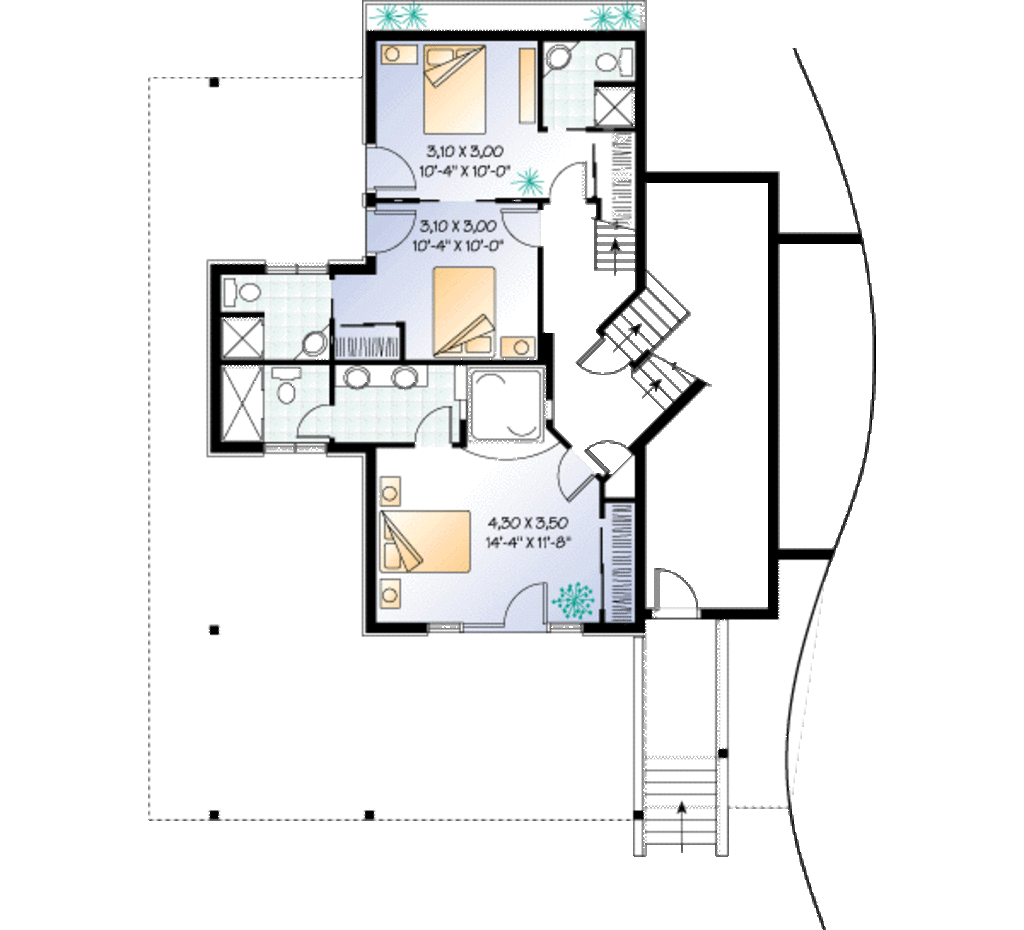bed: (374, 507, 475, 575), (429, 264, 500, 360), (423, 39, 489, 139)
door: (363, 144, 420, 194), (367, 206, 419, 259), (651, 566, 703, 616), (501, 581, 550, 629), (553, 445, 592, 503), (547, 158, 592, 205), (498, 205, 541, 250)
large_sink: (269, 358, 309, 406), (222, 274, 265, 314), (591, 44, 633, 81)
small_sink: (334, 360, 429, 393)
stairs: (603, 277, 702, 408), (633, 745, 732, 863)
windows: (422, 617, 507, 638)
